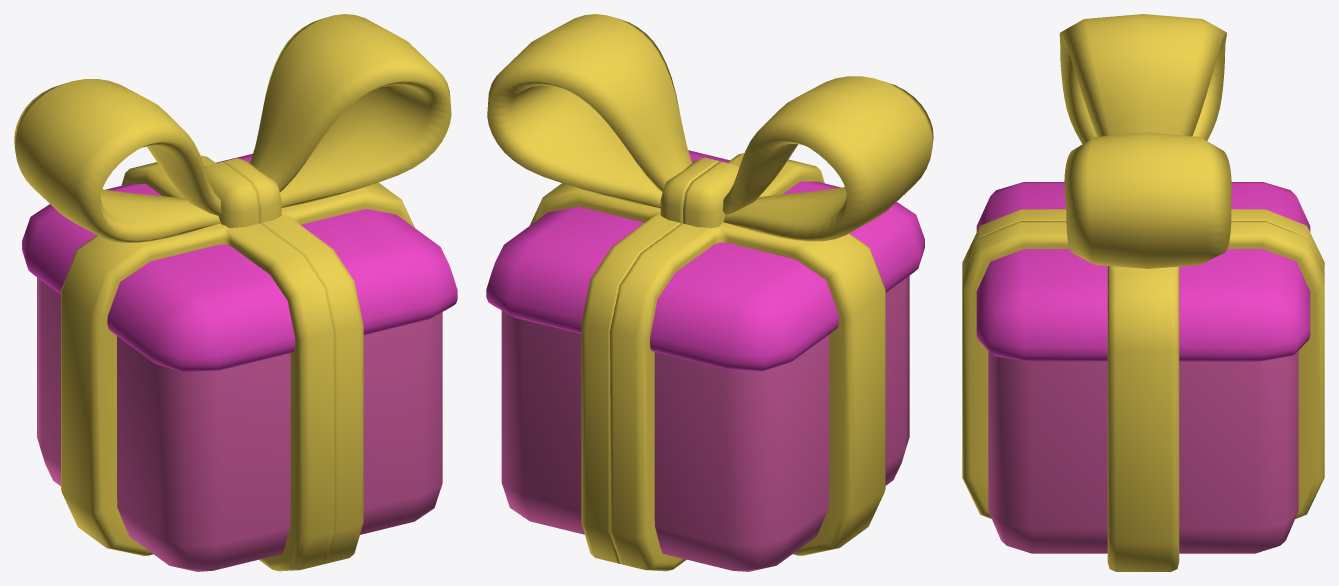
Rendered from SM_GiftBox_01b.fbx.
The picture shows the model from 3 angles, left to right: view 1: azimuth 30°, elevation 25°; view 2: azimuth 150°, elevation 25°; view 3: azimuth 270°, elevation 25°; orthographic projection. The views are drawn at different scales.
Visible parts, largest first — view 1: GiftBox_02, GiftBox_01; view 2: GiftBox_02, GiftBox_01; view 3: GiftBox_01, GiftBox_02.
Boxes of the visible parts, <box> form: GiftBox_02: <box>14,79,334,571</box>; GiftBox_01: <box>200,14,457,563</box>; GiftBox_02: <box>610,76,933,571</box>; GiftBox_01: <box>486,14,789,563</box>; GiftBox_01: <box>962,132,1324,571</box>; GiftBox_02: <box>962,14,1324,273</box>.
Size of the model in its own units: 32.54 by 36.6 by 27.61.
